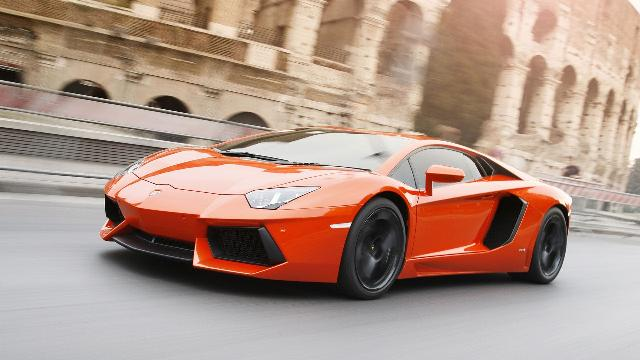lamborghini: (100, 126, 572, 298)
